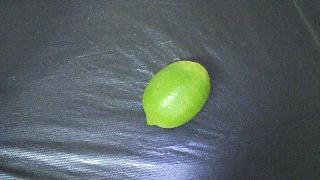LOCAL: (143, 61, 210, 128)
